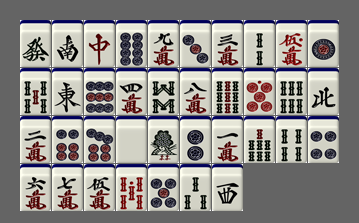0m: (276, 20, 307, 67)
0p: (244, 68, 275, 115)
0s: (116, 164, 147, 211)
1m: (212, 116, 243, 163)
1p: (308, 20, 339, 67)
1s: (148, 116, 179, 163)
1z: (52, 68, 83, 115)
2m: (20, 116, 51, 163)
2p: (180, 116, 211, 163)
2s: (244, 20, 275, 67)
2z: (52, 20, 83, 67)
3m: (212, 20, 243, 67)
3p: (180, 20, 211, 67)
3s: (180, 164, 211, 211)
3z: (212, 164, 243, 211)
4m: (116, 68, 147, 115)
4p: (308, 116, 339, 163)
4s: (276, 116, 307, 163)
4z: (308, 68, 339, 115)
5m: (84, 164, 115, 211)
5p: (148, 164, 179, 211)
5s: (20, 68, 51, 115)
5z: (116, 116, 147, 163)
6m: (20, 164, 51, 211)
6p: (52, 116, 83, 163)
6s: (276, 68, 307, 115)
6z: (20, 20, 51, 67)
7m: (52, 164, 83, 211)
7p: (84, 116, 115, 163)
7s: (244, 116, 275, 163)
7z: (84, 20, 115, 67)
8m: (180, 68, 211, 115)
8p: (116, 20, 147, 67)
8s: (148, 68, 179, 115)
9m: (148, 20, 179, 67)
9p: (84, 68, 115, 115)
9s: (212, 68, 243, 115)
